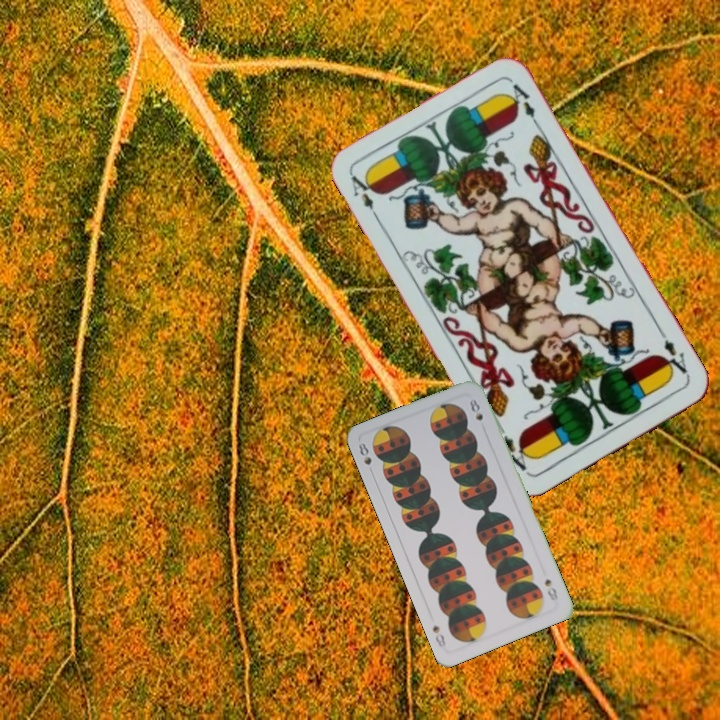EA: (655, 326, 692, 380), (346, 170, 383, 224)
S8: (354, 438, 377, 478), (541, 574, 561, 603)
